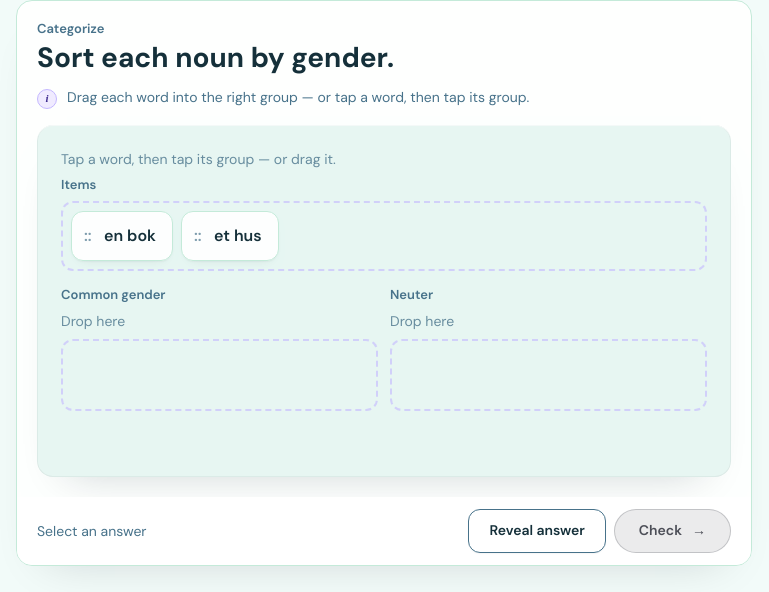
Test: FlashCardCategorize › shows the mobile hint copy for idle and armed tap-to-place states
Expected: the text "Tap a word, then tap its group — or drag it." is shown, [61,150,336,168]
Click the button "en bok": (122, 236) [71,211,173,261]
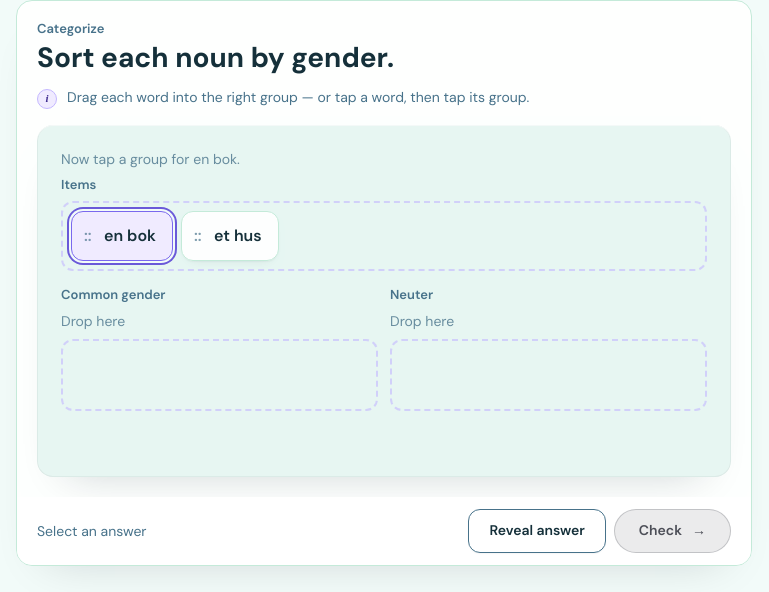
Result: the text "Now tap a group for en bok." is shown at [61,150,240,168]
Click the button with test id "drop-zone": (220, 375) [61,339,378,411]
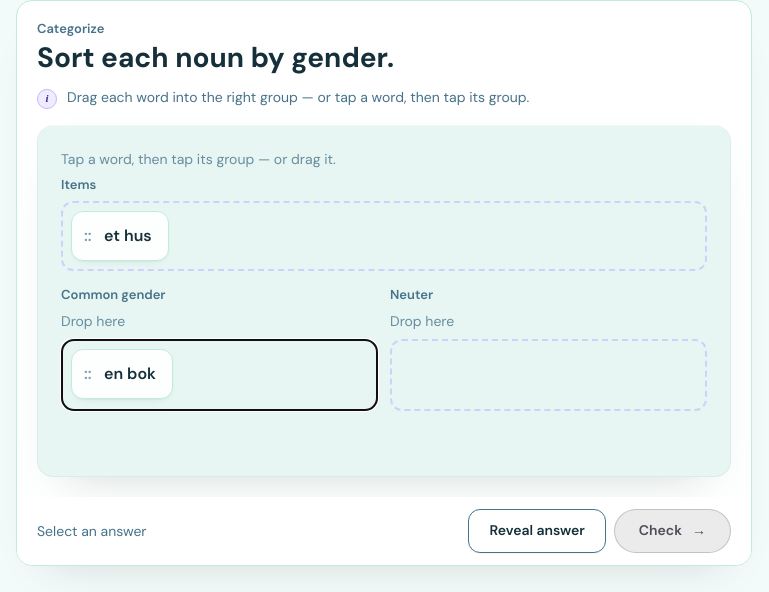
Result: the text "Tap a word, then tap its group — or drag it." is shown at [61,150,336,168]
